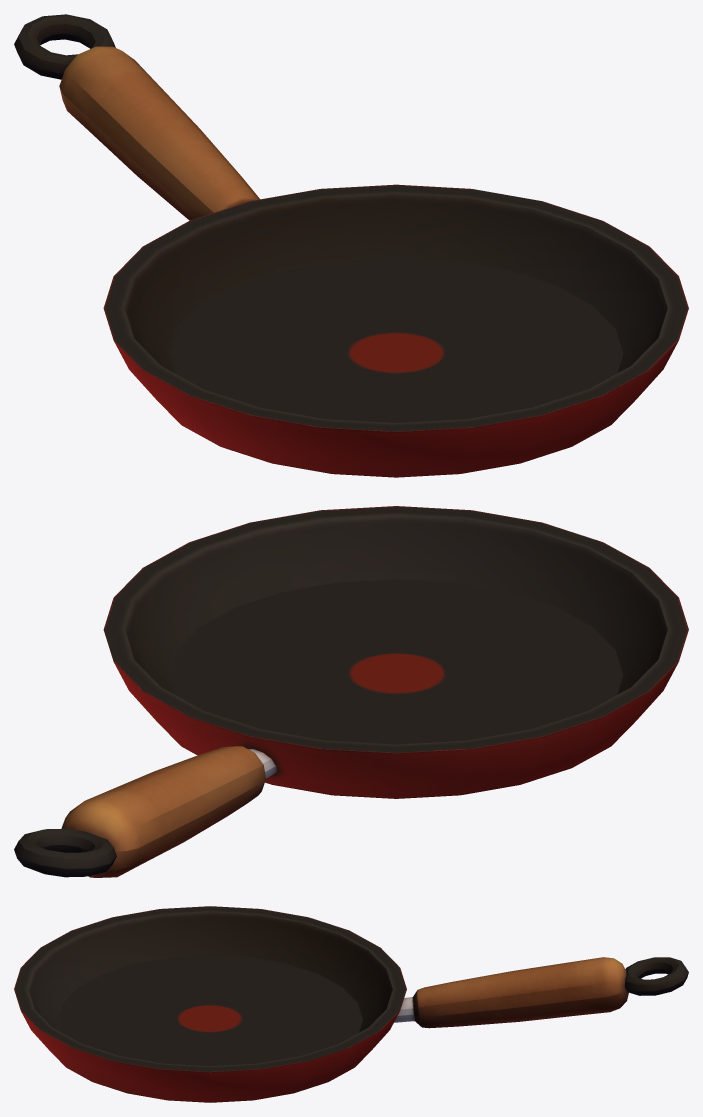
Rendered from FryPan.fbx.
3 views of the same model, one above another, from view 1: azimuth 30°, elevation 25°; view 2: azimuth 150°, elevation 25°; view 3: azimuth 270°, elevation 25° (orthographic). The views are drawn at different scales.
Parts seen in each view (by area): view 1: Fry_Pan; view 2: Fry_Pan; view 3: Fry_Pan.
Part boxes in pixels (bbox=[...]): Fry_Pan: bbox=[14, 14, 688, 477]; Fry_Pan: bbox=[14, 506, 688, 877]; Fry_Pan: bbox=[14, 906, 688, 1102].
Bounding box in the file's own units: 126 × 25.56 × 216.
Materials: 1 (1 with a texture image).
